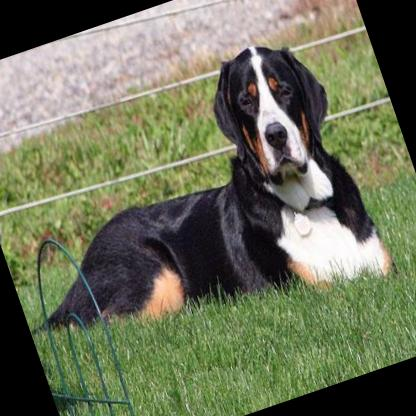Greater_Swiss_Mountain_dog: (0, 20, 402, 396)
